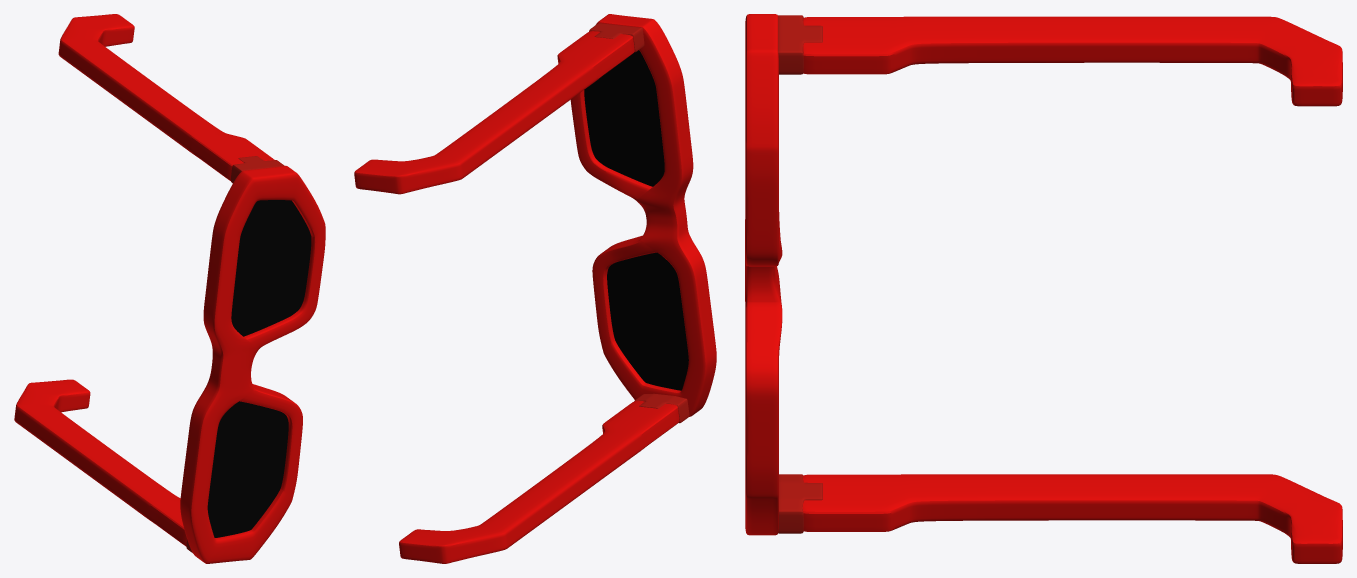
File: left_leg.glb
The picture shows the model from 3 angles, left to right: view 1: azimuth 30°, elevation 25°; view 2: azimuth 150°, elevation 25°; view 3: azimuth 270°, elevation 25°; orthographic projection. The views are drawn at different scales.
Visible parts, largest first — view 1: Cube.019; view 2: Cube.019; view 3: Cube.019.
Part boxes in pixels (left/top/right/bottom): Cube.019: left=14, top=14, right=325, bottom=563; Cube.019: left=354, top=14, right=716, bottom=563; Cube.019: left=745, top=14, right=1342, bottom=563.
Bounding box in the file's own units: 0.3897 × 0.9969 × 1.02.
